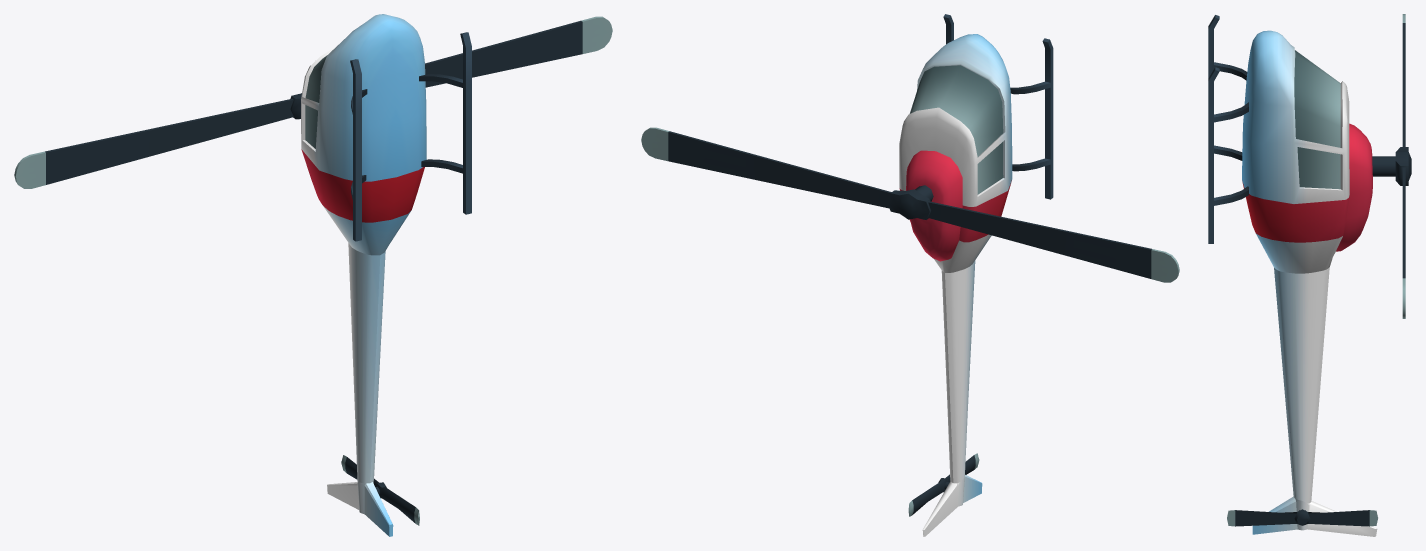
The model's file is helicopter.fbx.
3 renders of one model, left to right at view 1: azimuth 30°, elevation 25°; view 2: azimuth 150°, elevation 25°; view 3: azimuth 270°, elevation 25°, orthographic. The views are drawn at different scales.
Parts seen in each view (by area): view 1: helicopter, blades, tail_rotor; view 2: helicopter, blades, tail_rotor; view 3: helicopter, tail_rotor, blades.
Boxes of the visible parts, left/top/right/bottom form: helicopter: left=301, top=14, right=471, bottom=536; blades: left=14, top=16, right=612, bottom=188; tail_rotor: left=341, top=455, right=419, bottom=525; helicopter: left=899, top=14, right=1053, bottom=536; blades: left=641, top=127, right=1179, bottom=282; tail_rotor: left=908, top=453, right=979, bottom=516; helicopter: left=1208, top=15, right=1377, bottom=536; tail_rotor: left=1227, top=509, right=1377, bottom=526; blades: left=1372, top=14, right=1411, bottom=318.
Bounding box in the file's own units: 1295 × 1070 × 391.
